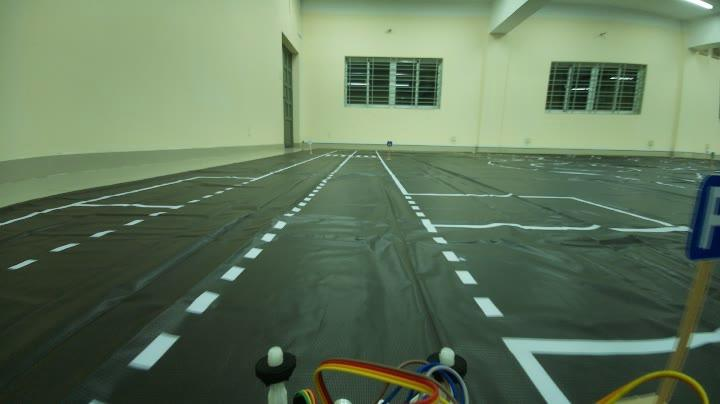parking: (678, 169, 720, 264)
